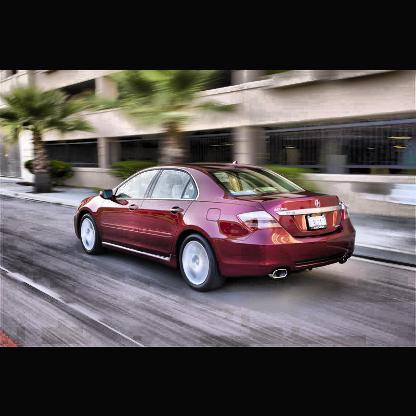Acura RL Sedan 2012: (73, 159, 359, 293)
